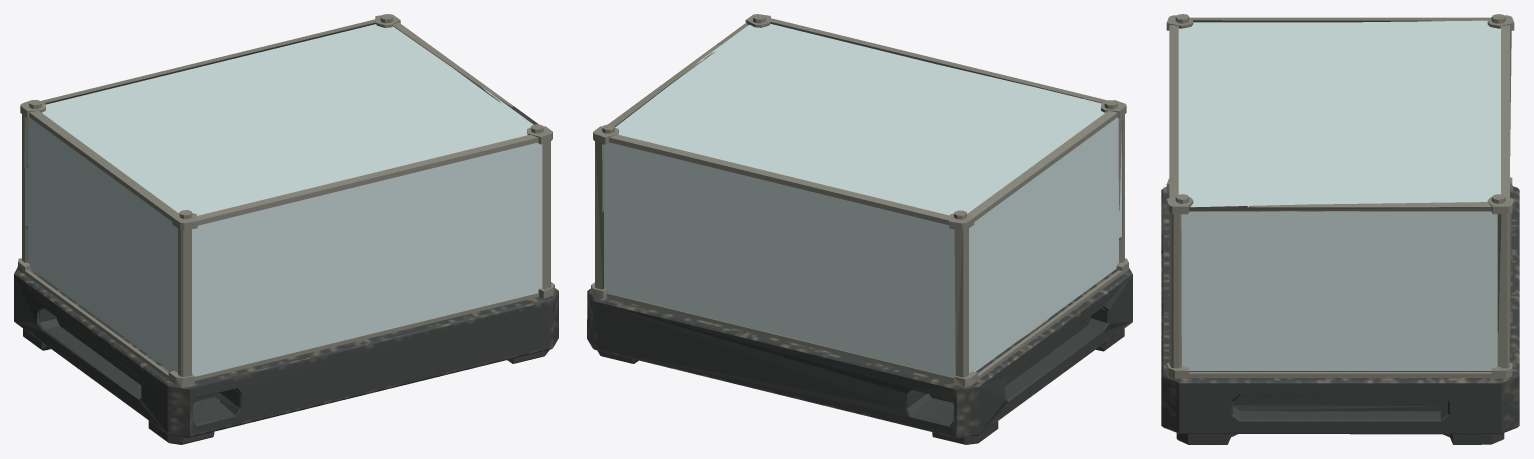
Rendered from 28-vertical-seismometer.fbx.
3 renders of one model, left to right at view 1: azimuth 30°, elevation 25°; view 2: azimuth 150°, elevation 25°; view 3: azimuth 270°, elevation 25°, orthographic. The views are drawn at different scales.
Visible parts, largest first — view 1: LocalRepair_ClearGuard_Front, LocalRepair_ClearGuard_Lid, Meshy_BaseWithGripPockets, LocalRepair_ClearGuard_Left, Meshy_part_53, Meshy_part_19, Meshy_part_50, Meshy_part_52, Meshy_part_11, Meshy_part_18, Meshy_part_09, Meshy_part_51 (+1 smaller); view 2: LocalRepair_ClearGuard_Back, LocalRepair_ClearGuard_Lid, Meshy_BaseWithGripPockets, LocalRepair_ClearGuard_Left, Meshy_part_52, Meshy_part_20, Meshy_part_50, Meshy_part_53, Meshy_part_12, Meshy_part_21, Meshy_part_09, Meshy_part_51 (+1 smaller); view 3: LocalRepair_ClearGuard_Lid, LocalRepair_ClearGuard_Right, Meshy_BaseWithGripPockets, Meshy_part_51, Meshy_part_21, Meshy_part_18, Meshy_part_10, Meshy_part_53, Meshy_part_50, Meshy_part_52, Meshy_part_02, Meshy_part_03.
Part boxes in pixels (left/top/right/bottom): LocalRepair_ClearGuard_Front: left=192, top=142, right=542, bottom=376; LocalRepair_ClearGuard_Lid: left=42, top=24, right=533, bottom=215; Meshy_BaseWithGripPockets: left=14, top=267, right=558, bottom=437; LocalRepair_ClearGuard_Left: left=25, top=117, right=177, bottom=372; Meshy_part_53: left=197, top=134, right=538, bottom=225; Meshy_part_19: left=178, top=228, right=191, bottom=376; Meshy_part_50: left=29, top=110, right=178, bottom=221; Meshy_part_52: left=41, top=19, right=376, bottom=104; Meshy_part_11: left=194, top=293, right=539, bottom=380; Meshy_part_18: left=542, top=141, right=550, bottom=289; Meshy_part_09: left=24, top=270, right=169, bottom=380; Meshy_part_51: left=392, top=22, right=538, bottom=124; LocalRepair_ClearGuard_Back: left=604, top=142, right=955, bottom=377; LocalRepair_ClearGuard_Lid: left=615, top=23, right=1105, bottom=215; Meshy_BaseWithGripPockets: left=587, top=268, right=1132, bottom=438; LocalRepair_ClearGuard_Left: left=969, top=117, right=1121, bottom=372; Meshy_part_52: left=609, top=134, right=949, bottom=225; Meshy_part_20: left=954, top=228, right=968, bottom=377; Meshy_part_50: left=967, top=111, right=1117, bottom=221; Meshy_part_53: left=770, top=18, right=1107, bottom=103; Meshy_part_12: left=606, top=293, right=953, bottom=381; Meshy_part_21: left=595, top=141, right=603, bottom=289; Meshy_part_09: left=978, top=270, right=1123, bottom=379; Meshy_part_51: left=608, top=22, right=747, bottom=126; LocalRepair_ClearGuard_Lid: left=1178, top=20, right=1500, bottom=207; LocalRepair_ClearGuard_Right: left=1181, top=211, right=1497, bottom=370; Meshy_BaseWithGripPockets: left=1161, top=186, right=1519, bottom=434; Meshy_part_51: left=1188, top=202, right=1491, bottom=211; Meshy_part_21: left=1497, top=213, right=1511, bottom=368; Meshy_part_18: left=1169, top=213, right=1181, bottom=368; Meshy_part_10: left=1189, top=372, right=1491, bottom=377; Meshy_part_53: left=1169, top=24, right=1178, bottom=197; Meshy_part_50: left=1190, top=17, right=1490, bottom=22; Meshy_part_52: left=1501, top=25, right=1509, bottom=197; Meshy_part_02: left=1176, top=433, right=1237, bottom=444; Meshy_part_03: left=1443, top=433, right=1504, bottom=444.
Bounding box in the file's own units: 0.5 × 0.2788 × 0.3761.
Materials: 6 (5 with a texture image).
